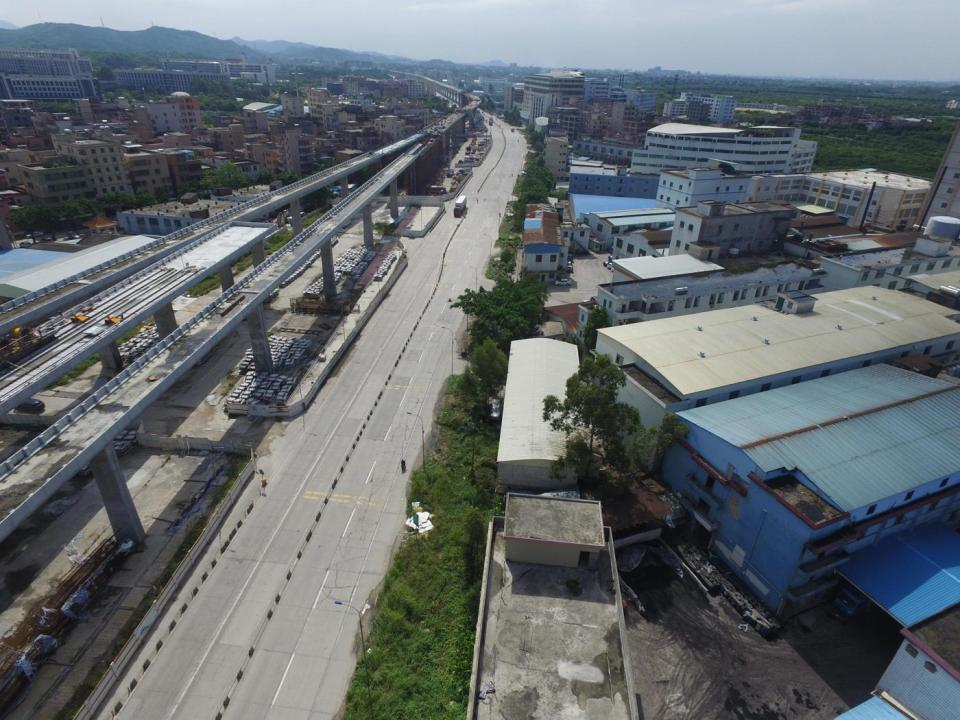bus: (510, 127, 514, 132)
car: (15, 396, 48, 414), (26, 231, 44, 239), (590, 295, 601, 308), (555, 278, 572, 286), (558, 254, 573, 261), (560, 265, 573, 273), (559, 258, 572, 266), (611, 264, 623, 272), (609, 253, 620, 261), (18, 242, 32, 248), (603, 259, 615, 266), (608, 261, 618, 268), (68, 232, 79, 238), (42, 237, 52, 243)
truck: (834, 556, 893, 619), (453, 195, 467, 216)
